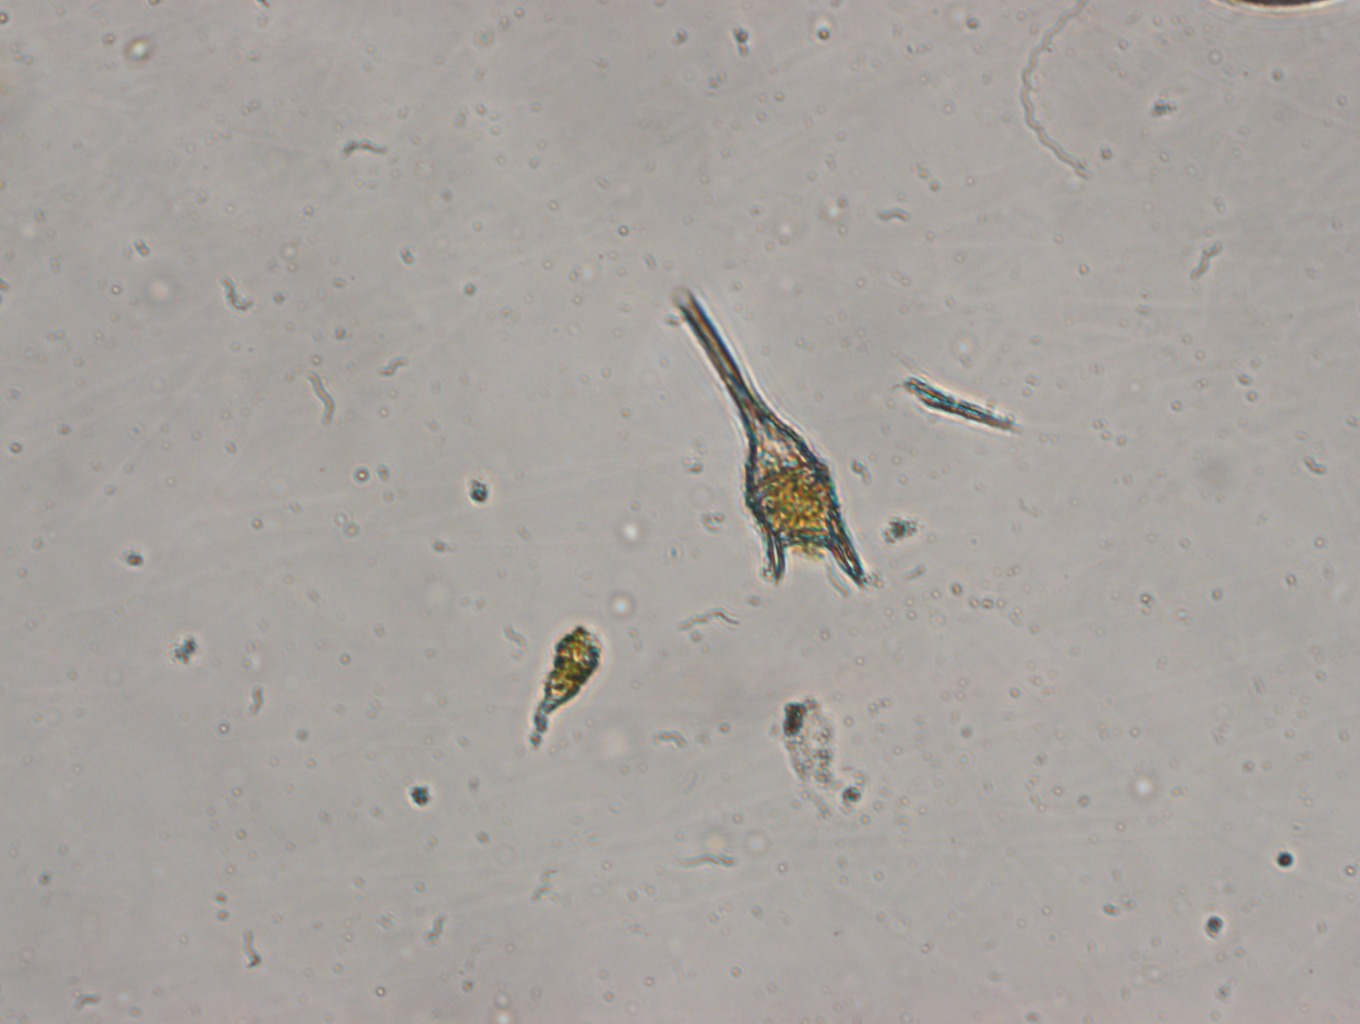ceratium furca: (669, 283, 868, 592)
